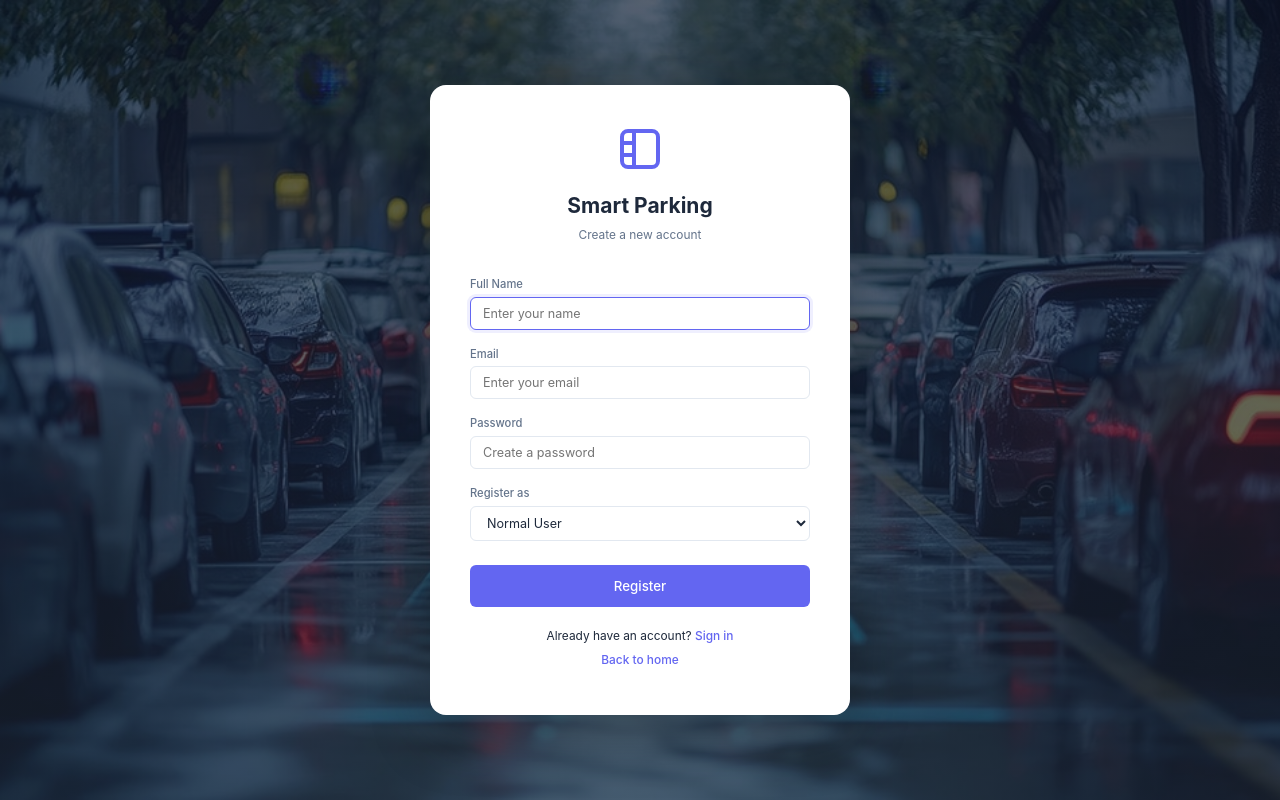
RegisterPage › shows the worker authorization field and backend errors
In the field with placeholder "Enter your name": (640, 313) [470,296,810,330], type "Worker Willa"
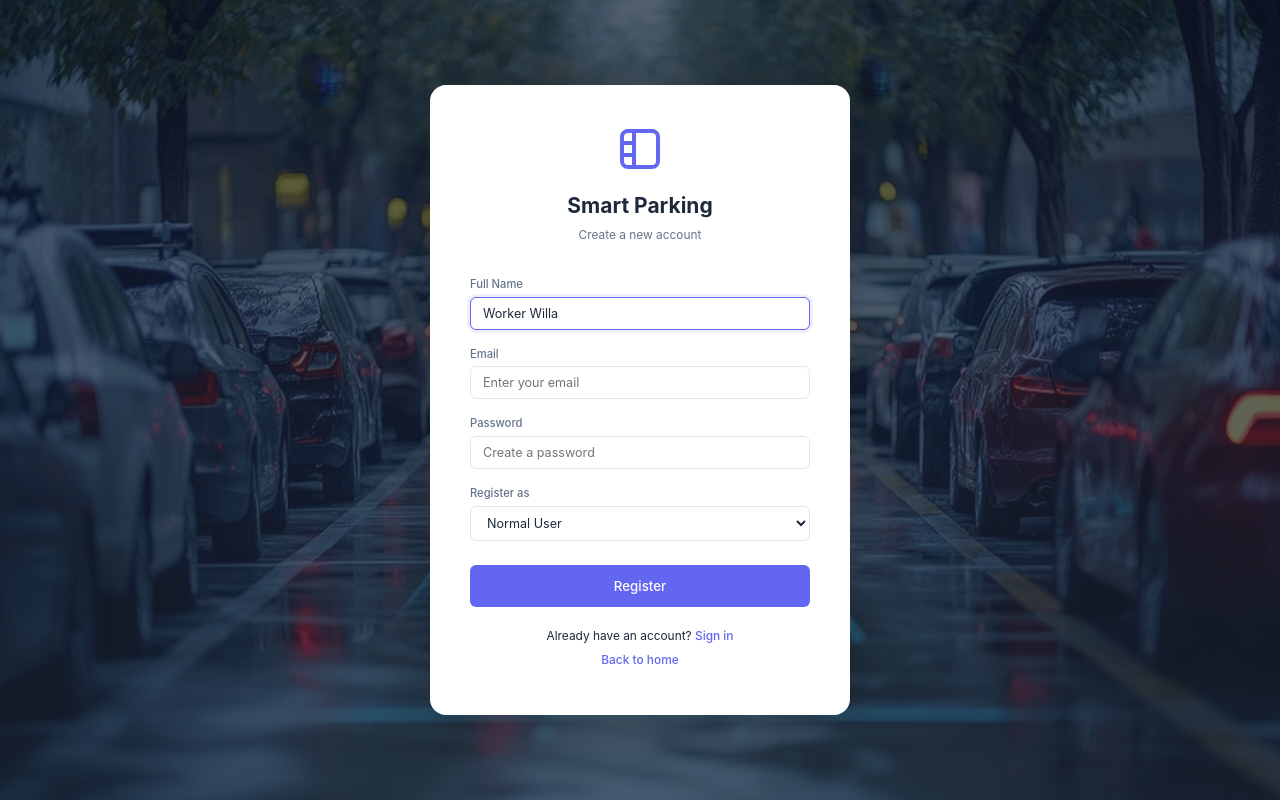
In the field with placeholder "Enter your email": (640, 383) [470,366,810,399], type "worker@example.com"
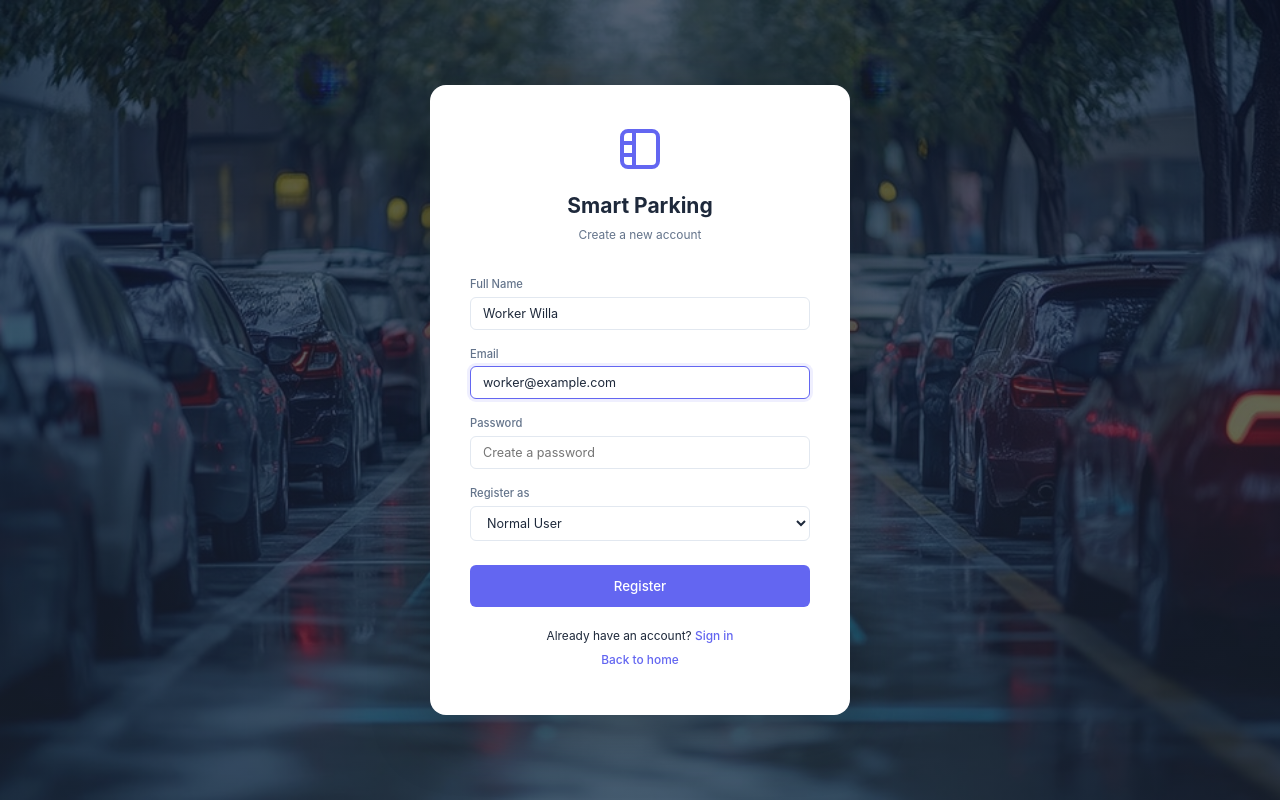
In the password field with placeholder "Create a password": (640, 453) [470,436,810,469], type "secret12"
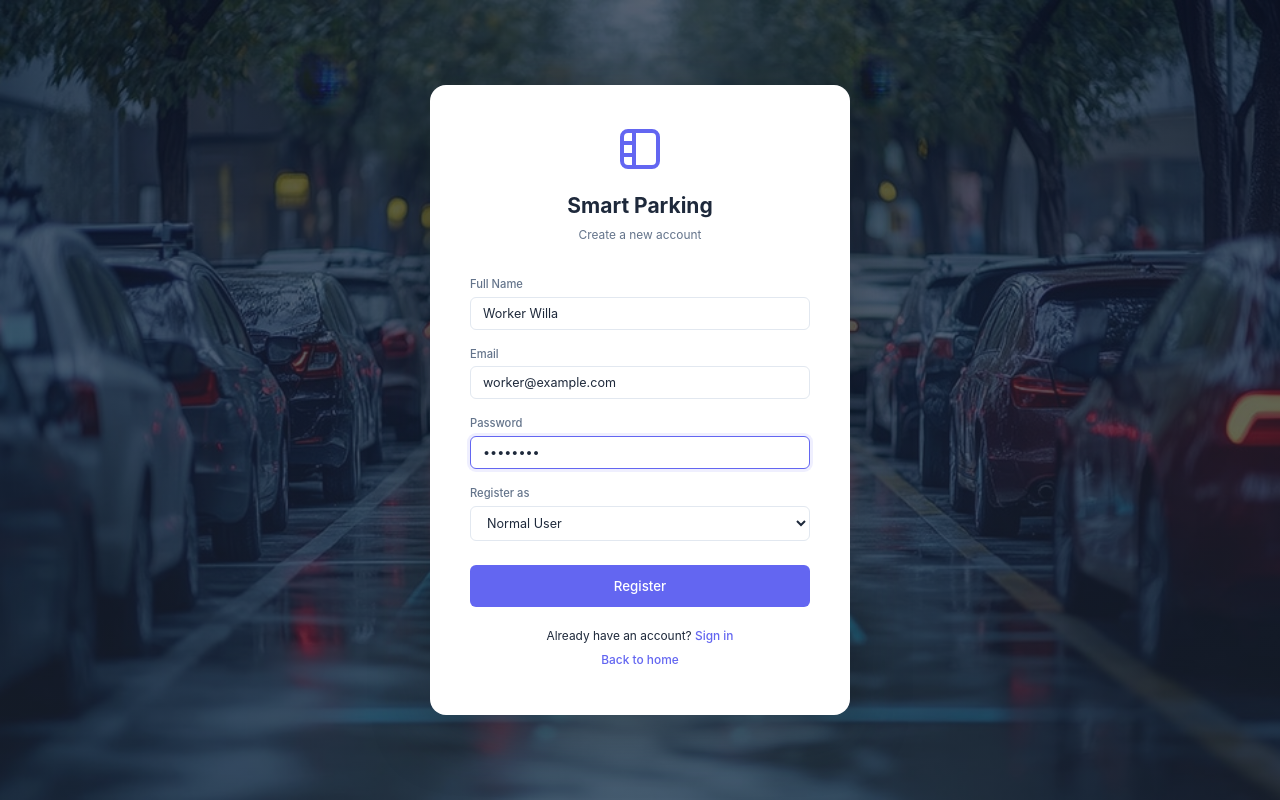
Select "Worker" in the dropdown: (640, 523) [470,506,810,541]
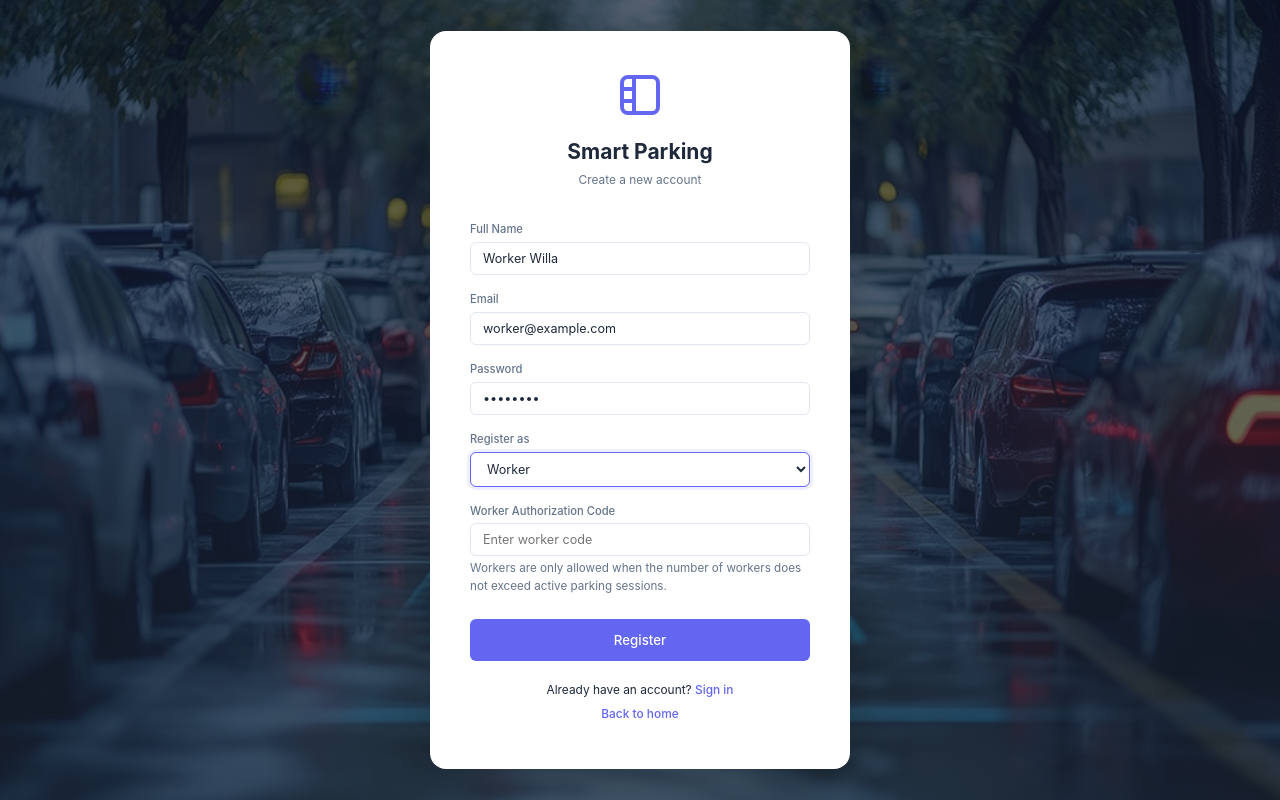
Check: the field with placeholder "Enter worker code" is shown
In the field with placeholder "Enter worker code": (640, 540) [470,523,810,556], type "bad-code"
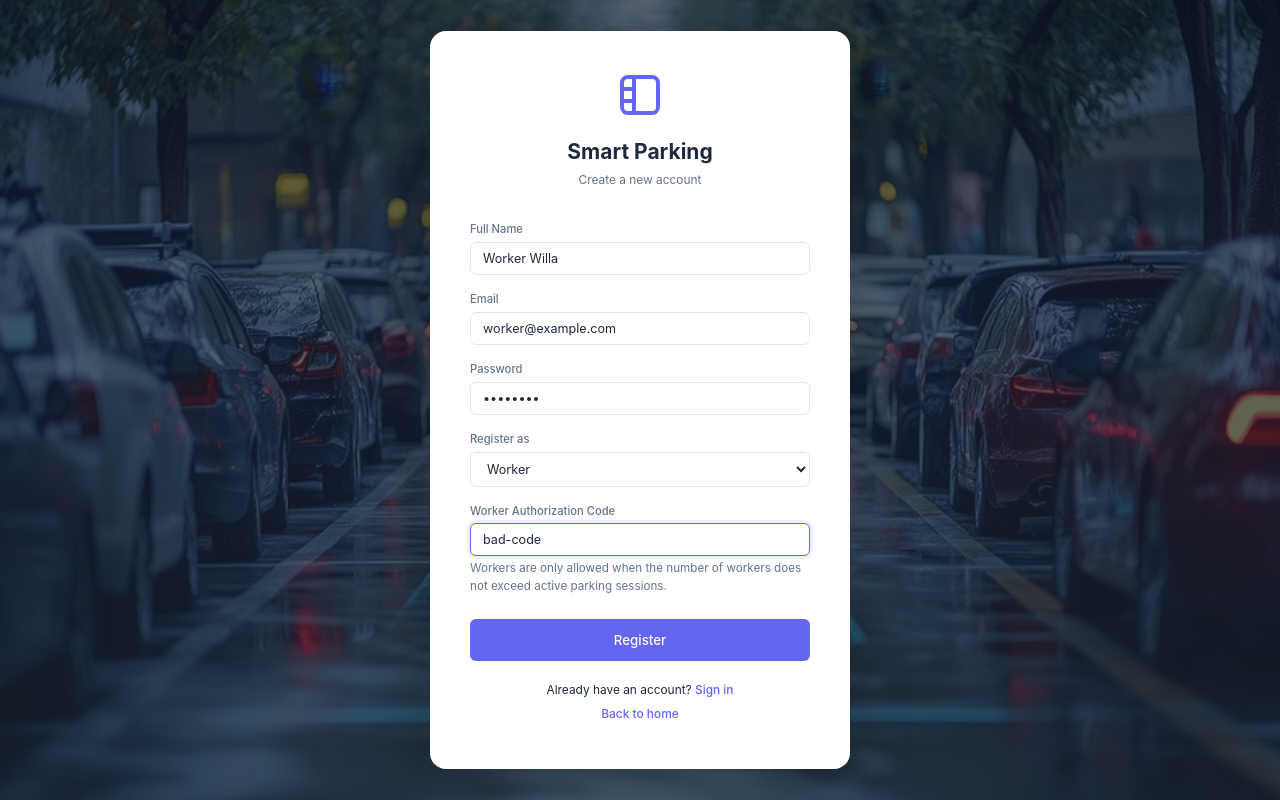
Click the button "Register": (640, 640) [470,619,810,661]
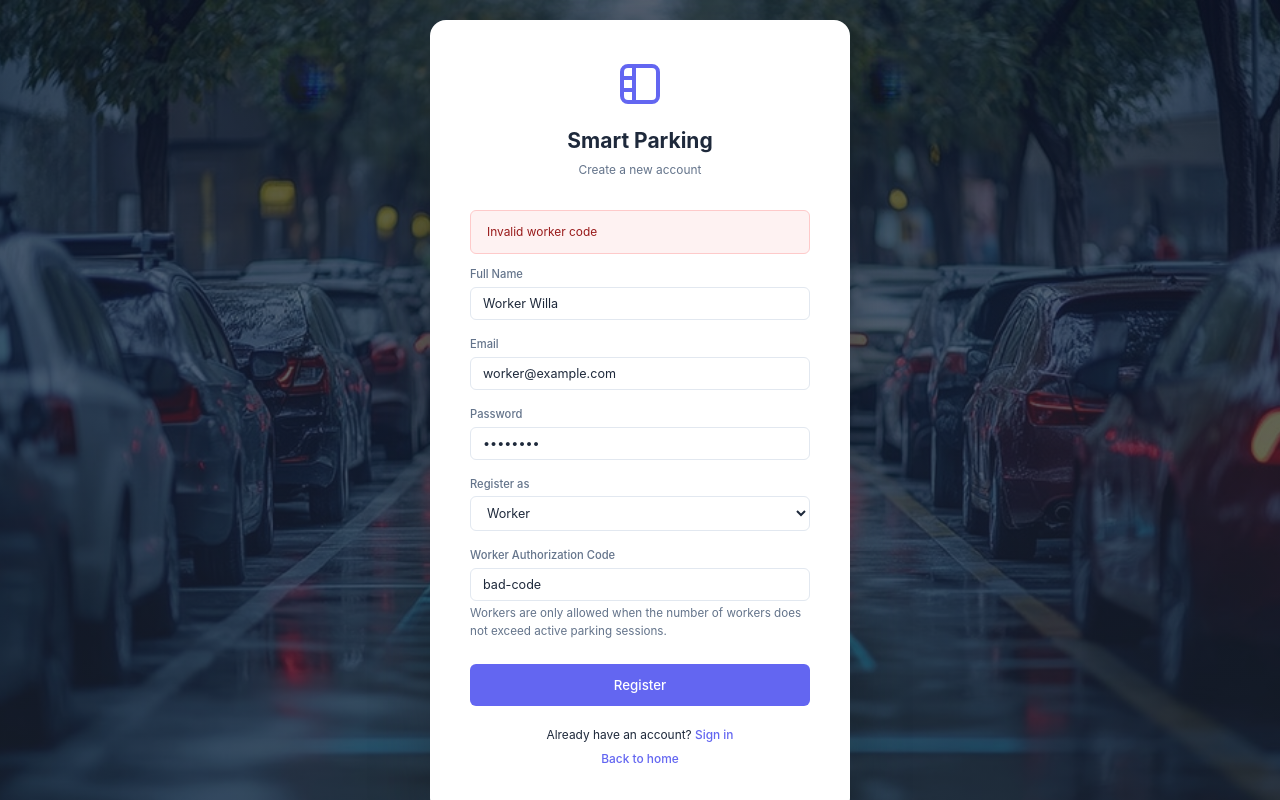
Check: the text "Invalid worker code" is shown, box [470,210,810,254]
